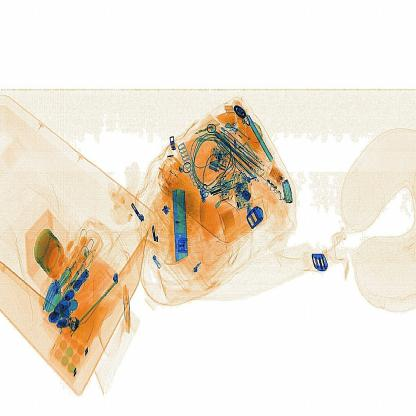pliers: (165, 190, 193, 272)
